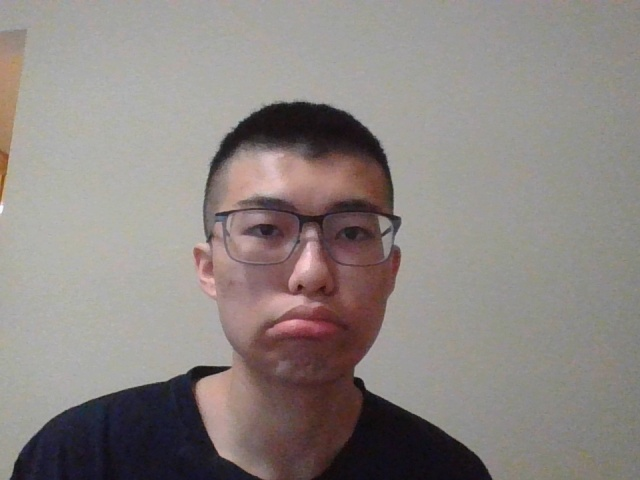sad: (189, 96, 403, 384)
